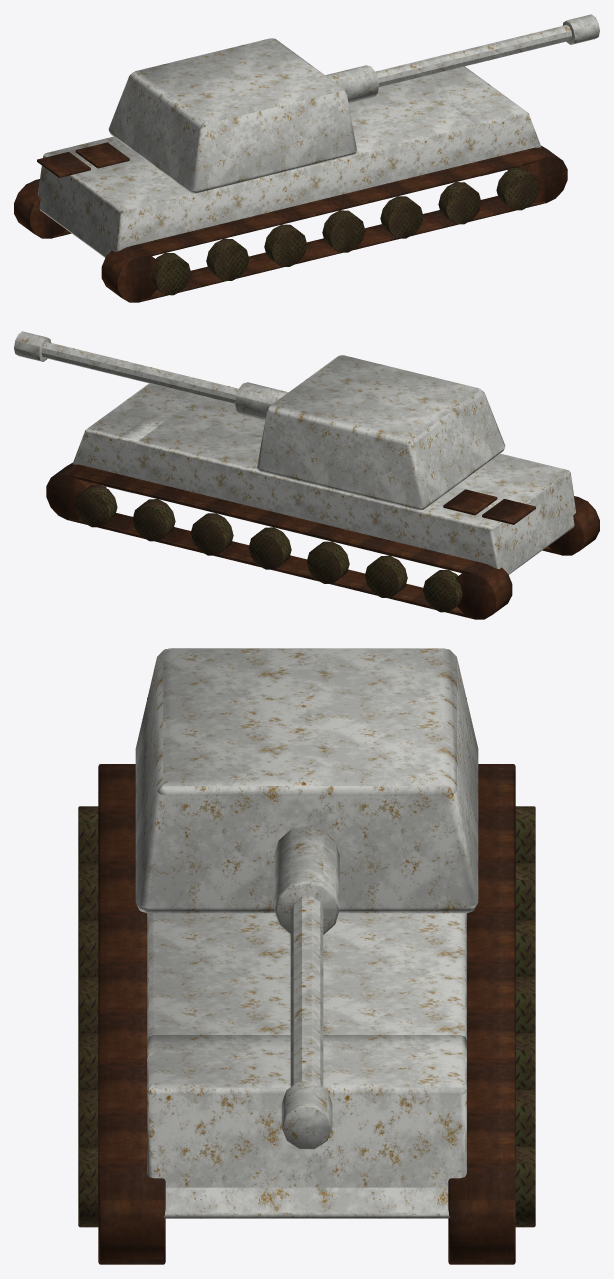
The model's file is veh_sau.gltf.
3 views of the same model, one above another, from view 1: azimuth 30°, elevation 25°; view 2: azimuth 150°, elevation 25°; view 3: azimuth 270°, elevation 25° (orthographic). The views are drawn at different scales.
Parts seen in each view (by area): view 1: box.004, box.006, box.001, box, cyl.019, cyl, cyl.009, cyl.001, cyl.005, cyl.004, cyl.007, cyl.006 (+8 smaller); view 2: box.004, box.006, box.003, box.002, cyl.019, cyl.009, cyl, cyl.010, cyl.014, cyl.013, cyl.016, cyl.015 (+8 smaller); view 3: box.006, box.004, box.001, box.003, box.005, cyl.001, cyl.010, cyl.019, cyl.018, cyl.020, cyl.008, cyl.017 (+12 smaller).
Part boxes in pixels (bbox=[...]): box.004: bbox=[38, 66, 541, 257]; box.006: bbox=[108, 38, 356, 193]; box.001: bbox=[129, 148, 544, 257]; box: bbox=[141, 196, 544, 301]; cyl.019: bbox=[375, 25, 572, 87]; cyl: bbox=[101, 247, 157, 302]; cyl.009: bbox=[14, 179, 65, 238]; cyl.001: bbox=[507, 145, 567, 203]; cyl.005: bbox=[322, 210, 365, 252]; cyl.004: bbox=[264, 224, 307, 266]; cyl.007: bbox=[438, 182, 481, 224]; cyl.006: bbox=[380, 196, 423, 238]; box.004: bbox=[72, 383, 575, 574]; box.006: bbox=[257, 355, 505, 510]; box.003: bbox=[69, 465, 484, 574]; box.002: bbox=[69, 513, 472, 618]; cyl.019: bbox=[41, 342, 238, 404]; cyl.009: bbox=[456, 564, 512, 619]; cyl: bbox=[548, 496, 599, 555]; cyl.010: bbox=[46, 462, 106, 520]; cyl.014: bbox=[248, 527, 291, 569]; cyl.013: bbox=[306, 541, 349, 583]; cyl.016: bbox=[132, 499, 175, 541]; cyl.015: bbox=[190, 513, 233, 555]; box.006: bbox=[135, 648, 478, 913]; box.004: bbox=[147, 697, 466, 1187]; box.001: bbox=[98, 770, 146, 1166]; box.003: bbox=[467, 770, 515, 1166]; box.005: bbox=[147, 1035, 466, 1218]; cyl.001: bbox=[98, 1165, 165, 1264]; cyl.010: bbox=[448, 1165, 515, 1264]; cyl.019: bbox=[290, 896, 323, 1086]; cyl.018: bbox=[274, 825, 339, 934]; cyl.020: bbox=[281, 1081, 332, 1149]; cyl.008: bbox=[78, 1146, 98, 1227]; cyl.017: bbox=[515, 1146, 535, 1227].
Size of the model in its own units: 8.19 by 2.2 by 3.07.
3 materials, 3 textured.
